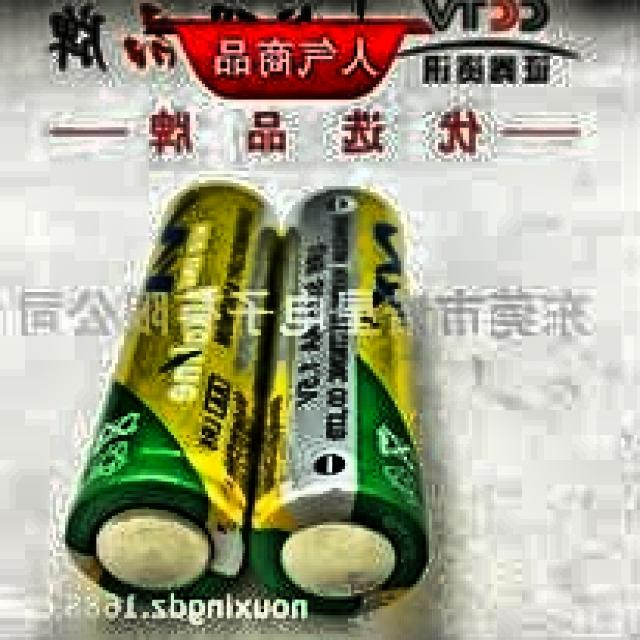Non-Valuable Waste - Batteries: (66, 187, 274, 596), (248, 188, 427, 612)
